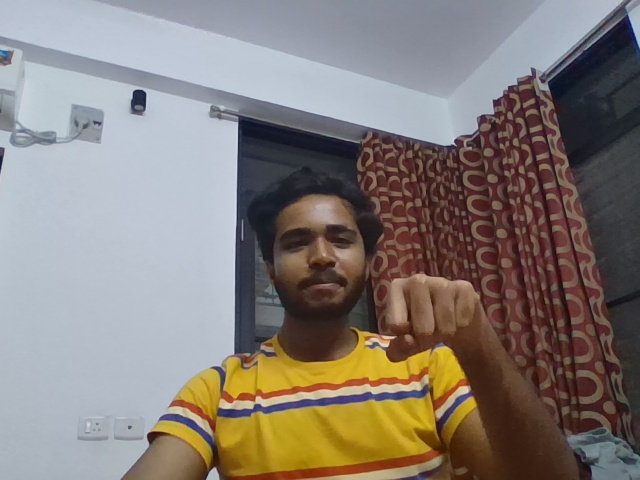Yes: (372, 267, 509, 376)
